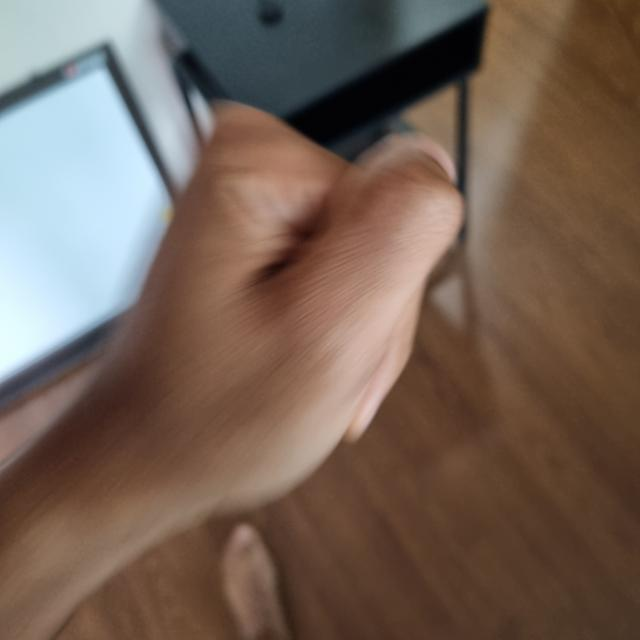Rock: (95, 110, 457, 517)
